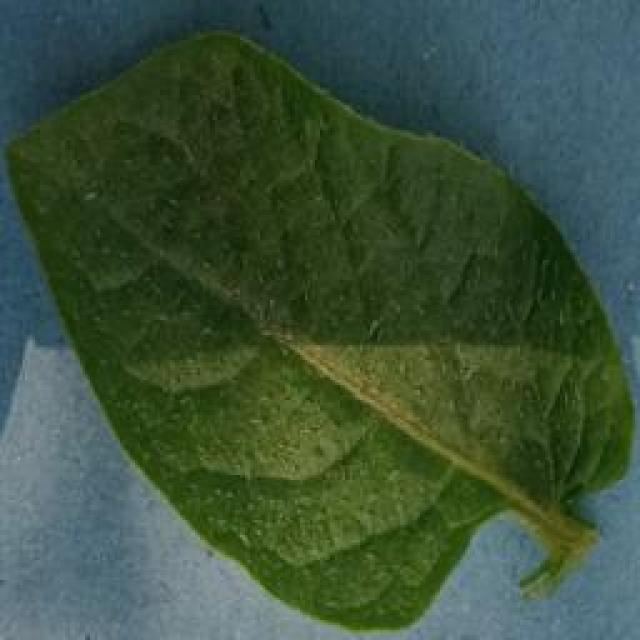Potato_Healthy: (7, 28, 623, 630)
